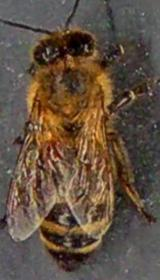varroa_mite: (36, 138, 61, 171)
